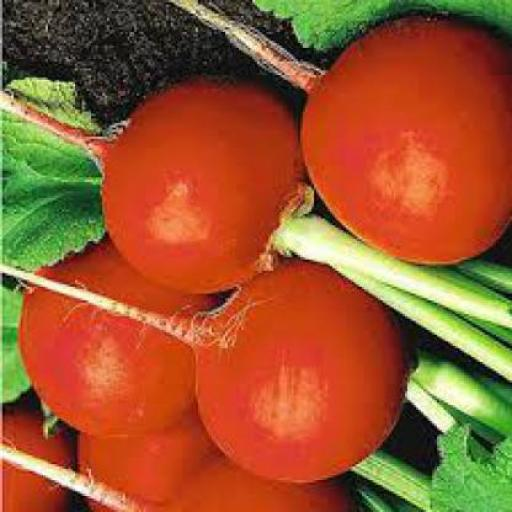biodegradable: (0, 257, 405, 485), (0, 81, 310, 302), (296, 18, 510, 266), (273, 227, 510, 387), (17, 256, 216, 444), (0, 440, 354, 510), (0, 82, 105, 275), (72, 400, 222, 512), (405, 359, 509, 458), (0, 411, 75, 511), (422, 437, 511, 511), (348, 460, 459, 511), (2, 289, 34, 405)
